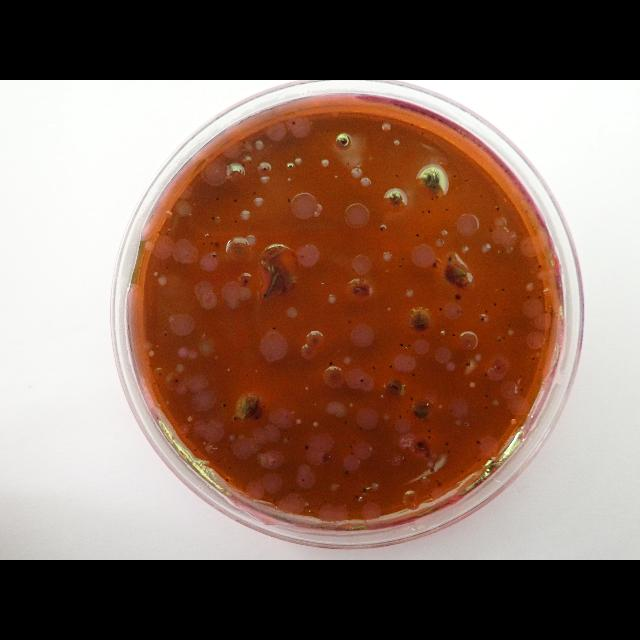colony: (418, 168, 446, 194), (238, 394, 262, 420), (411, 310, 432, 332), (334, 132, 354, 150), (386, 191, 404, 209), (386, 380, 402, 398), (414, 402, 430, 411), (414, 409, 428, 419), (454, 293, 462, 301), (287, 162, 295, 170), (416, 441, 424, 449), (432, 261, 438, 269), (347, 318, 353, 326), (214, 242, 220, 248), (221, 402, 227, 408), (232, 415, 238, 421), (304, 444, 310, 450), (426, 428, 432, 434), (388, 364, 394, 370), (448, 256, 454, 262), (488, 227, 494, 233), (414, 232, 420, 238), (262, 166, 268, 172), (216, 196, 220, 202), (217, 458, 221, 464), (300, 478, 306, 482), (355, 494, 359, 500), (371, 498, 375, 504), (344, 470, 350, 474), (410, 396, 414, 402), (398, 414, 402, 420), (427, 434, 431, 440), (444, 442, 450, 446), (438, 482, 442, 488), (484, 404, 488, 410), (412, 372, 416, 378), (328, 362, 334, 366), (526, 294, 530, 300), (538, 295, 542, 301), (292, 120, 296, 126), (244, 278, 248, 284), (263, 292, 267, 298), (233, 198, 237, 202), (253, 191, 257, 195), (211, 216, 215, 220), (212, 254, 216, 258), (164, 332, 168, 336), (158, 372, 162, 376), (175, 379, 179, 383), (262, 404, 266, 408), (255, 415, 259, 419), (227, 466, 231, 470), (226, 446, 230, 450), (309, 510, 313, 514), (318, 507, 322, 511), (362, 488, 366, 492), (350, 451, 354, 455), (349, 445, 353, 449), (405, 409, 409, 413), (476, 440, 480, 444), (485, 394, 489, 398), (372, 365, 376, 369), (360, 378, 364, 382), (404, 346, 408, 350), (451, 333, 455, 337), (439, 307, 443, 311), (493, 302, 497, 306), (502, 308, 506, 312), (508, 323, 512, 327), (484, 309, 488, 313), (480, 317, 484, 321), (502, 336, 506, 340), (498, 338, 502, 342), (537, 264, 541, 268), (496, 207, 500, 211), (444, 208, 448, 212), (427, 210, 431, 214), (421, 210, 425, 214), (464, 178, 468, 182), (326, 129, 330, 133), (241, 163, 245, 167), (464, 423, 468, 427), (401, 257, 405, 261), (399, 264, 403, 268), (287, 198, 291, 202), (465, 362, 469, 366), (235, 219, 238, 223), (195, 448, 198, 452), (461, 469, 464, 473), (436, 195, 439, 199), (496, 366, 499, 370), (272, 326, 276, 329), (202, 242, 204, 246), (166, 266, 168, 270), (186, 435, 188, 439), (288, 436, 290, 440), (310, 439, 312, 443), (324, 500, 326, 504), (320, 503, 322, 507), (360, 426, 362, 430), (448, 450, 450, 454), (436, 479, 438, 483), (478, 459, 480, 463), (474, 456, 478, 458), (400, 343, 402, 347), (502, 288, 504, 292), (484, 374, 488, 376), (411, 122, 413, 126), (226, 478, 228, 482), (422, 333, 424, 337), (380, 228, 382, 232), (210, 242, 213, 244), (454, 175, 456, 178), (206, 235, 208, 238), (322, 496, 324, 498), (408, 344, 410, 346), (432, 198, 434, 200), (532, 358, 534, 360), (422, 132, 424, 134), (382, 227, 384, 229), (396, 174, 398, 176)
